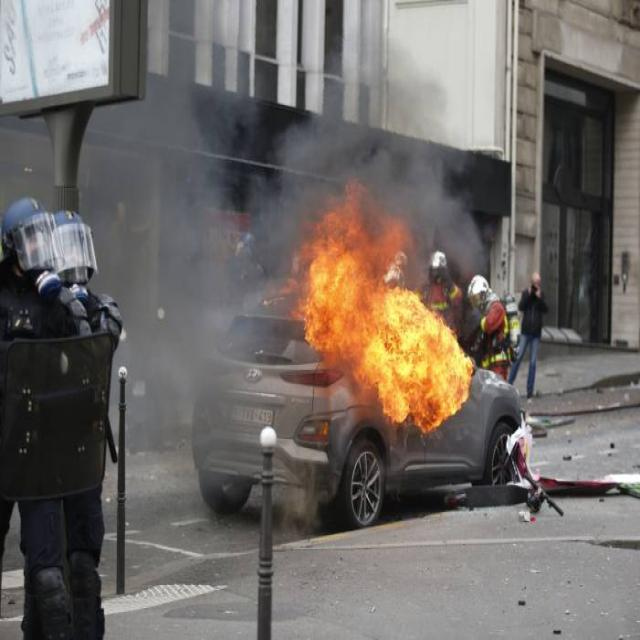Fire: (296, 177, 474, 436)
Smoke: (82, 4, 499, 468)
